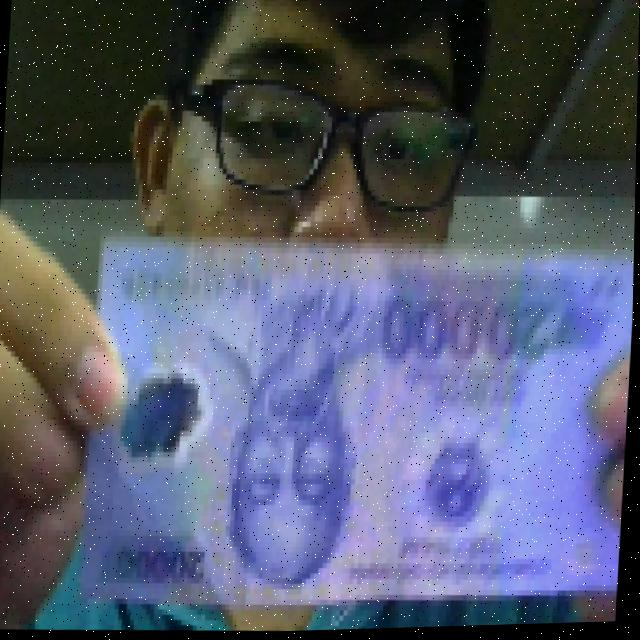20 000 VND: (69, 213, 636, 633)
